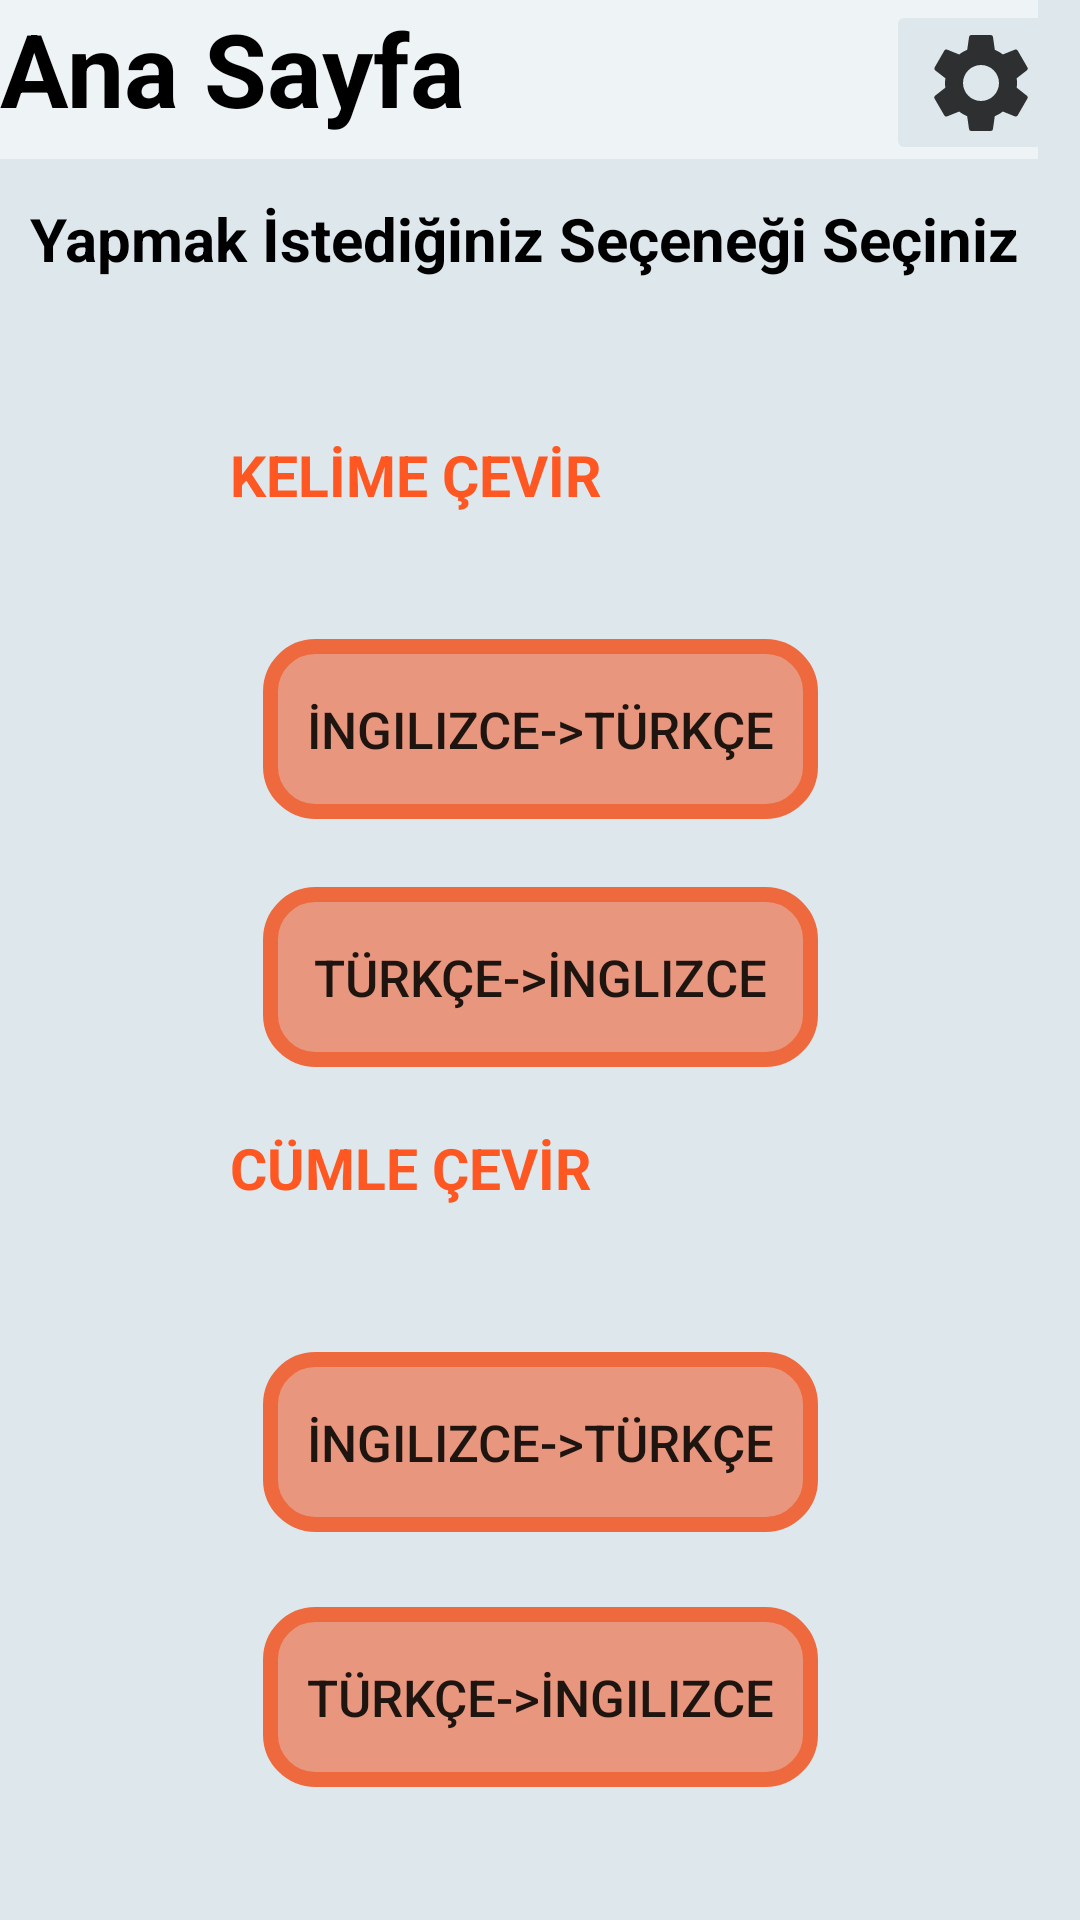

Where icons sit on this 1080*1920 app screen, as (x1, y1, x2, y2):
settings: (934, 35, 1028, 131)
